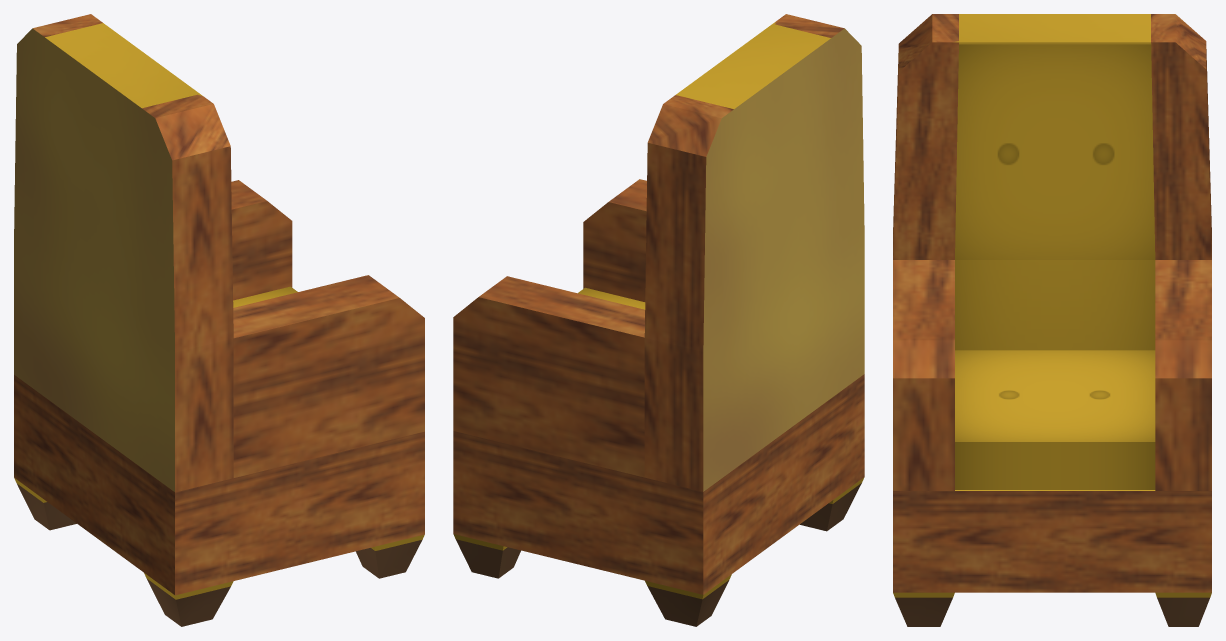
Rendered from chair.glb.
The picture shows the model from 3 angles, left to right: view 1: azimuth 30°, elevation 25°; view 2: azimuth 150°, elevation 25°; view 3: azimuth 270°, elevation 25°; orthographic projection.
Visible parts, largest first — view 1: Chair; view 2: Chair; view 3: Chair, Cushion.
Boxes of the visible parts, x1,y1,x2,y2 form: Chair: [14, 14, 424, 626]; Chair: [453, 14, 864, 626]; Chair: [893, 14, 1211, 626]; Cushion: [955, 350, 1155, 489].
Bounding box in the file's own units: 2.68 × 5.16 × 2.99.
1 material, 1 textured.
